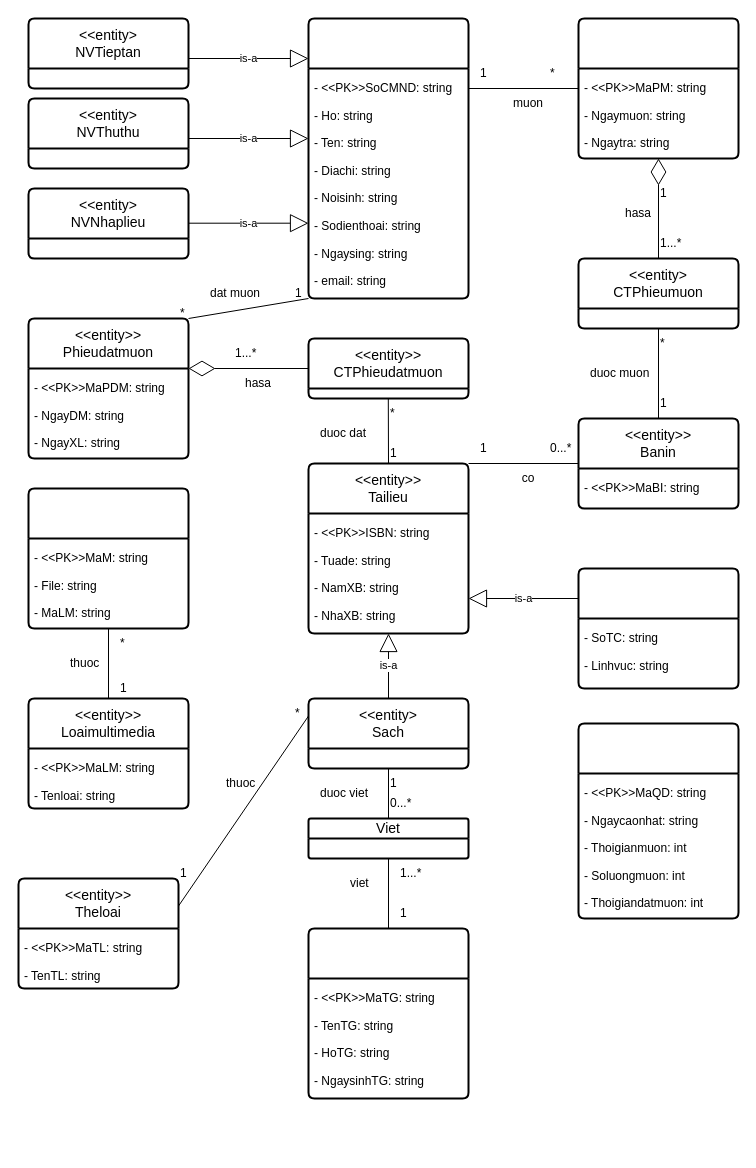
Image size: 756x1168. Some labels were removed from this diagram. The shapes that lost their labels are listed below. From the top down, each one's box as (x1, y1, x2, y2) in pixels, then its label:
(577, 17, 739, 159): <<entity>> Phieumuon
(307, 17, 469, 299): <<entity>> Docgia
(27, 487, 189, 629): <<entity>> Multimedia
(577, 567, 739, 689): <<entity>> Tapchi
(577, 722, 739, 919): <<entity>> Quidinh
(307, 927, 469, 1099): <<entity>> Tacgia
